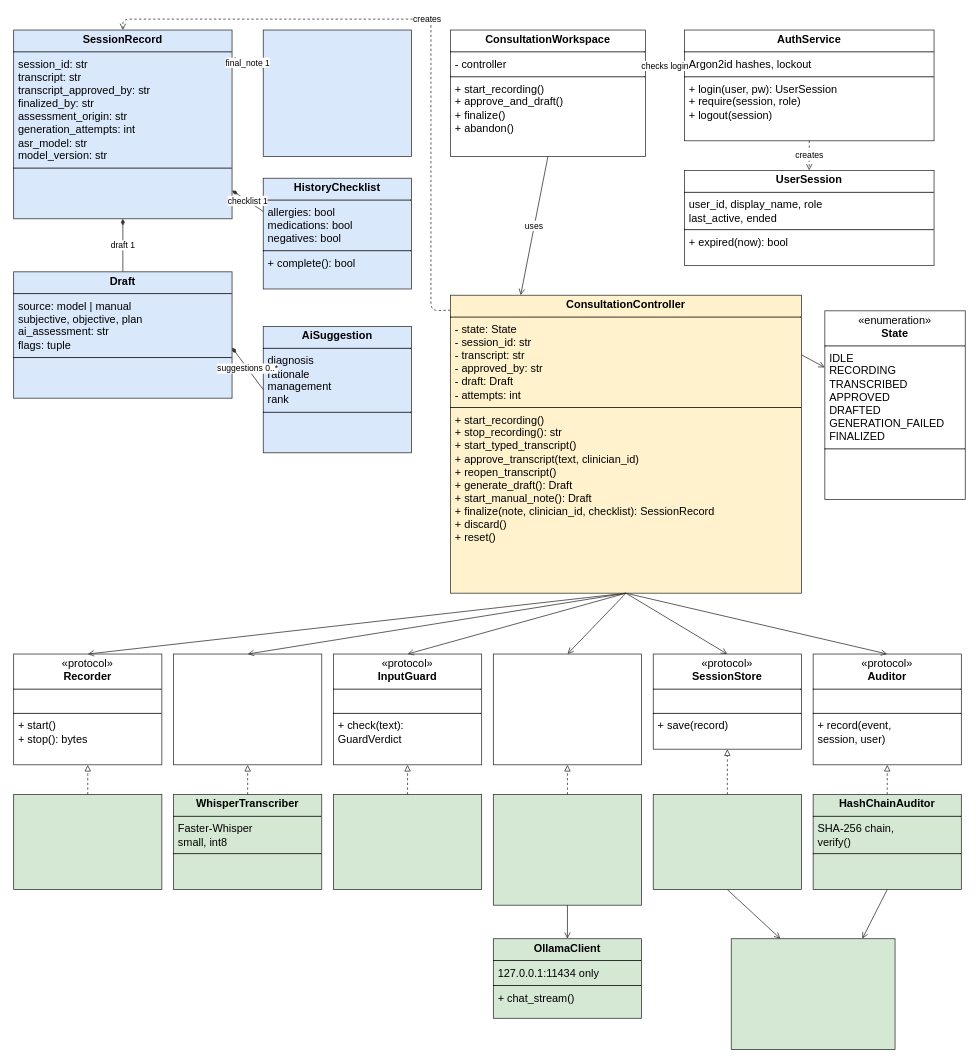
Image size: 979x1063. Some labels were removed from this diagram. Each missing label, with the centre of its shape:
PatternInputGuard injection signals, masking: (407,842)
SoapGenerator prompt, JSON check, loop check, flags, retry: (567,849)
SoapNote subjective objective assessment plan: (336,92)
SoundDeviceRecorder 16 kHz mono, in memory: (87,842)
Vault SQLCipher, keys in memory + connect() + lock(): (812,993)
VaultSessionStore one transaction per note: (726,842)
«protocol» NoteGenerator + generate(text, attempt): Draft: (567,709)
«protocol» Transcriber + transcribe(audio): str: (247,709)
